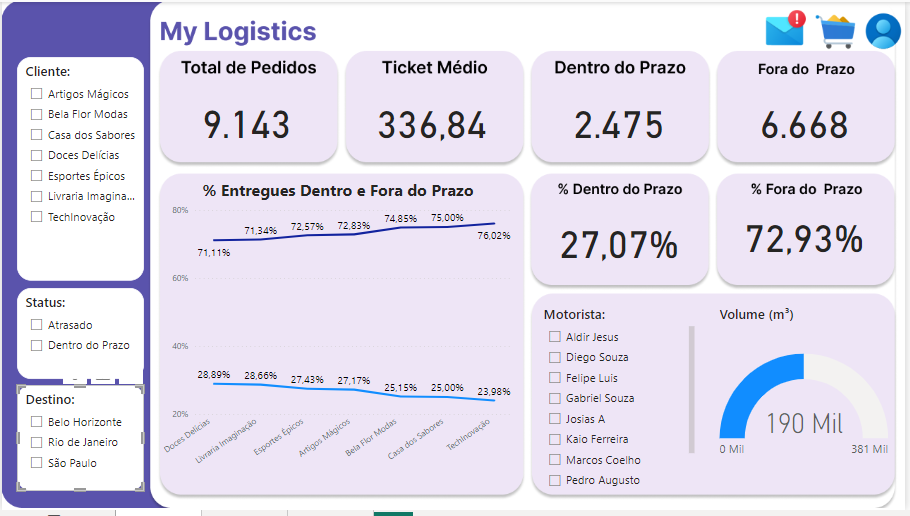

What the dashboard file says about the page in this screenshot:
{"tool":"powerbi","page":{"name":"Página 1","canvas":[1280,720],"ordinal":0},"visuals":[{"type":"slicer","title":"Cliente:","fields":{"Values":["tbFaturamento.Cliente"]},"box":[21.7,78.3,180,316.7],"z":0},{"type":"slicer","title":"Destino:","fields":{"Values":["tbFaturamento.Destino"]},"box":[21.4,543.5,180,150],"z":1000},{"type":"slicer","title":"Status:","fields":{"Values":["tbFaturamento.Status"]},"box":[21.4,405.7,180,128.6],"z":2000},{"type":"card","title":"Quantidade de Pedidos","fields":{"Values":["Medidas.Quantidade de Pedidos"]},"box":[238.6,117.1,217.1,98.6],"z":3000},{"type":"slicer","title":"Motorista:","fields":{"Values":["tbFaturamento.Motorista"]},"box":[761.7,416.7,223.3,263.3],"z":4000},{"type":"card","title":"Ticket Médio","fields":{"Values":["Medidas.Ticket Médio"]},"box":[508,118,204,98],"z":5000},{"type":"card","title":"Pedidos Entregues no Prazo","fields":{"Values":["Medidas.Nº On Time"]},"box":[762,118,224,98],"z":6000},{"type":"card","title":"Pedidos Entregues Fora do Prazo","fields":{"Values":["Medidas.Nº Off Time"]},"box":[1012,118,250,98],"z":7000},{"type":"card","title":"Percentual Dentro do Prazo","fields":{"Values":["Medidas.% Entregues no Prazo"]},"box":[762,278,224,118],"z":8000},{"type":"card","title":"Percentual Ent. Fora do Prazo","fields":{"Values":["Medidas.% Entregues fora do Prazo"]},"box":[1012,278,250,102],"z":9000},{"type":"lineChart","title":"% Entregues Dentro e Fora do Prazo","fields":{"Category":["tbFaturamento.Cliente"],"Y":["Medidas.% Entregues no Prazo","Medidas.% Entregues fora do Prazo"]},"box":[223.3,261.7,505,418.3],"z":10000},{"type":"gauge","fields":{"Y":["Medidas.Volume (m³)"]},"box":[1012,417,250,263],"z":11000}]}

Visuals, with their boxes in screenshot pixels (x1, y1, x2, y2), scaled from the page's 1280x720 canvas onto the 910x516 screenshot:
"Cliente:" slicer: 15:56:143:283
"Destino:" slicer: 15:390:143:497
"Status:" slicer: 15:291:143:383
"Quantidade de Pedidos" card: 170:84:324:155
"Motorista:" slicer: 542:299:700:487
"Ticket Médio" card: 361:85:506:155
"Pedidos Entregues no Prazo" card: 542:85:701:155
"Pedidos Entregues Fora do Prazo" card: 719:85:897:155
"Percentual Dentro do Prazo" card: 542:199:701:284
"Percentual Ent. Fora do Prazo" card: 719:199:897:272
"% Entregues Dentro e Fora do Prazo" lineChart: 159:188:518:487
gauge - Medidas.Volume (m³): 719:299:897:487
